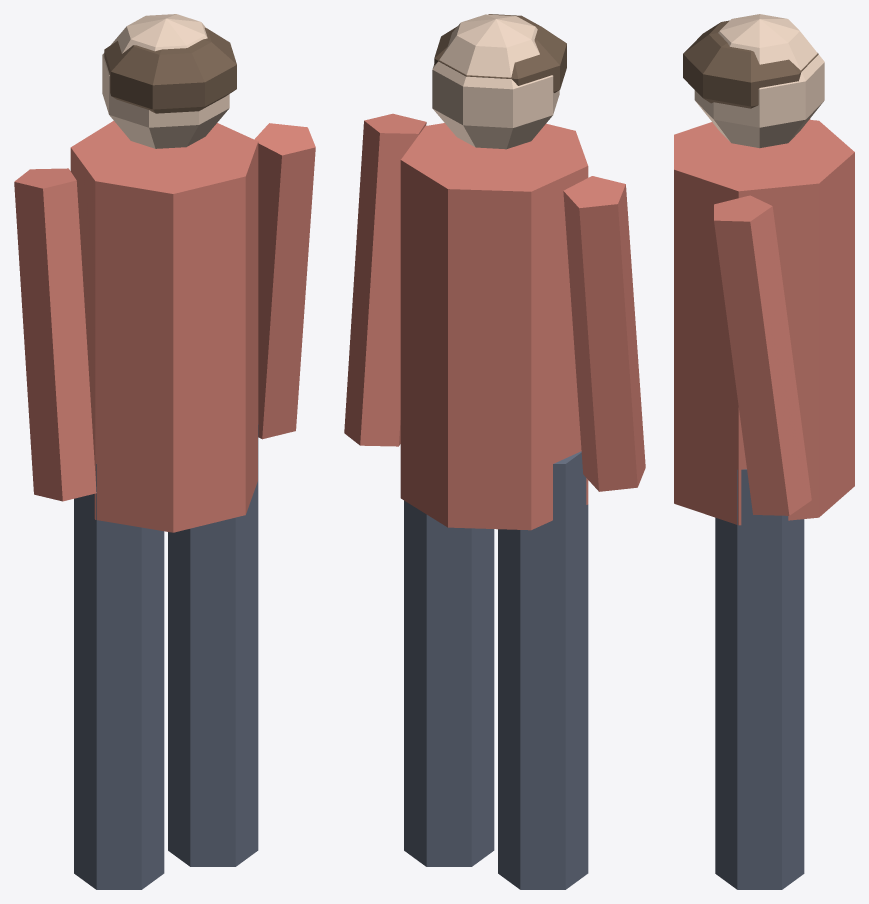
File: ped_1.glb
3 renders of one model, left to right at view 1: azimuth 30°, elevation 25°; view 2: azimuth 150°, elevation 25°; view 3: azimuth 270°, elevation 25°, orthographic.
Visible parts, largest first — view 1: ped_1; view 2: ped_1; view 3: ped_1.
Part boxes in pixels (x1=…): ped_1: x1=14, y1=14, x2=315, y2=889; ped_1: x1=344, y1=14, x2=645, y2=889; ped_1: x1=674, y1=14, x2=854, y2=889.
Bounding box in the file's own units: 0.5246 × 1.54 × 0.3042.
